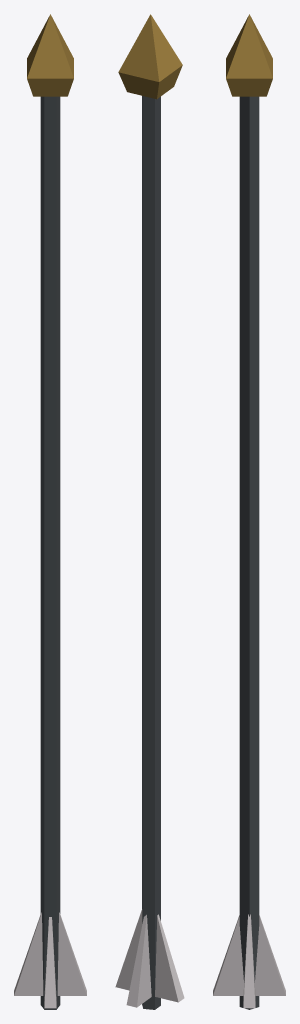
The model's file is _arrow_b_8.glb.
3 renders of one model, left to right at view 1: azimuth 90°, elevation 25°; view 2: azimuth 150°, elevation 25°; view 3: azimuth 270°, elevation 25°, orthographic.
Parts seen in each view (by area): view 1: arrow_b_8; view 2: arrow_b_8; view 3: arrow_b_8.
Boxes of the visible parts, box(x1,y1,x2,y2) form: arrow_b_8: box(14, 14, 86, 1009); arrow_b_8: box(115, 14, 184, 1009); arrow_b_8: box(213, 14, 285, 1009).
Bounding box in the file's own units: 1243 × 18652 × 1243.
1 material, 1 textured.
